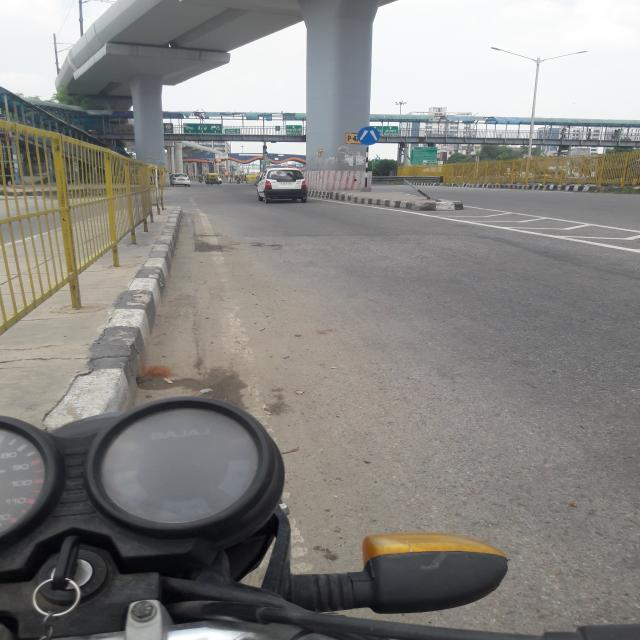pass either side: (357, 126, 380, 146)
